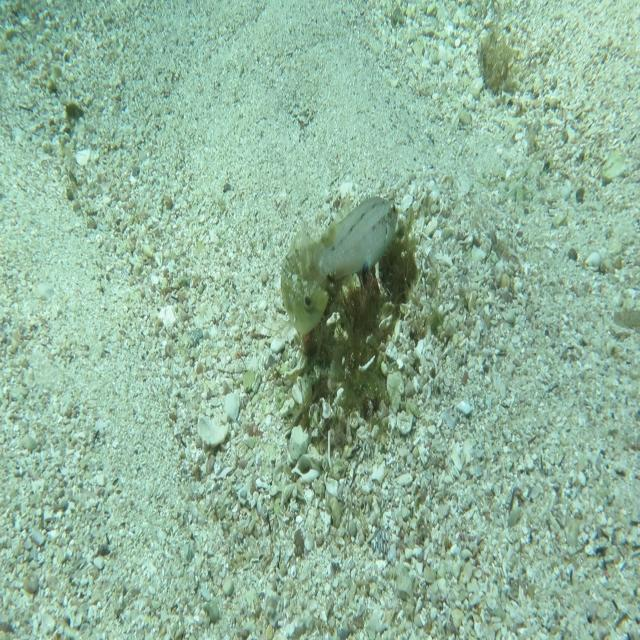DAN_CIRC: (275, 227, 331, 340)
core_nest: (365, 251, 410, 298)
female: (314, 191, 400, 282)
nest: (283, 176, 434, 450)
